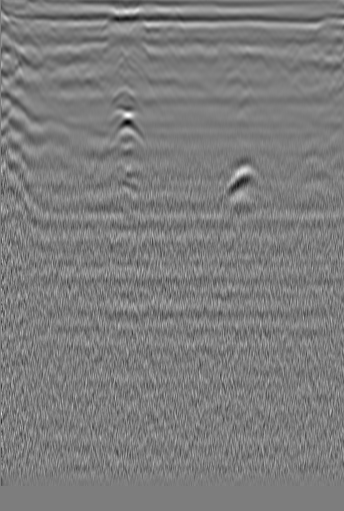가스: (101, 107, 149, 156)
상수: (3, 27, 49, 63)
오수: (284, 37, 312, 69)
우수: (151, 22, 197, 56)
